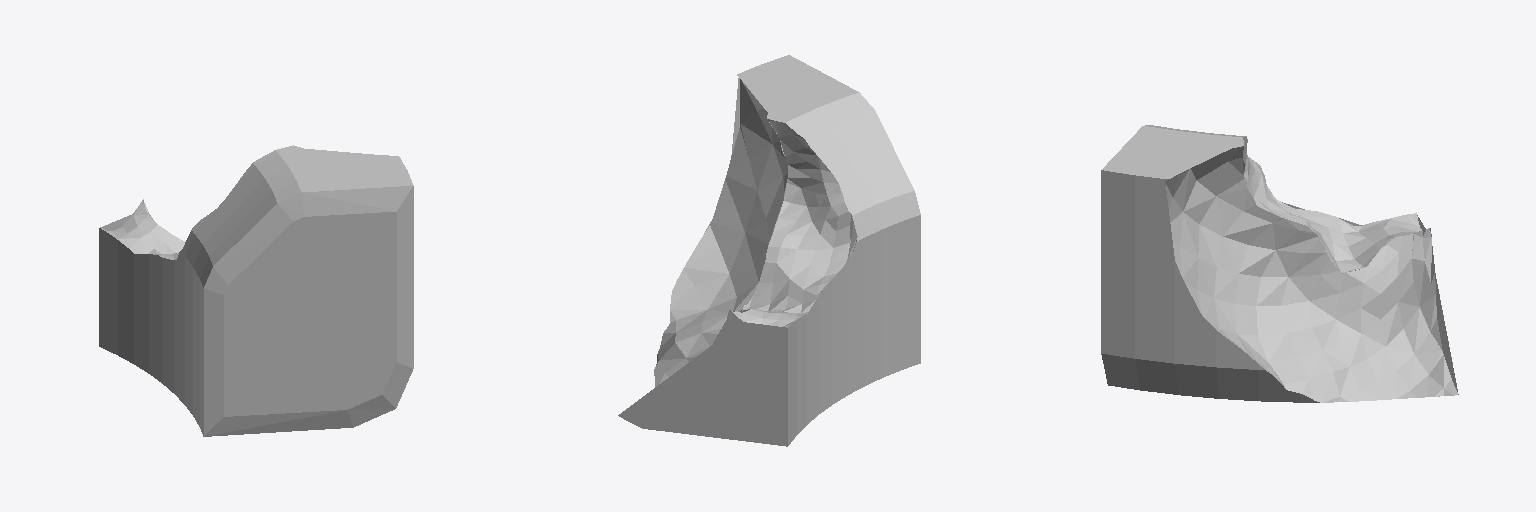
The model's file is CircleBlock12_001.obj.
3 views of the same model, side by side, from view 1: azimuth 30°, elevation 25°; view 2: azimuth 150°, elevation 25°; view 3: azimuth 270°, elevation 25° (orthographic).
Parts seen in each view (by area): view 1: CircleBlock12.001; view 2: CircleBlock12.001; view 3: CircleBlock12.001.
Boxes of the visible parts, <box> form: CircleBlock12.001: <box>99,145,413,436</box>; CircleBlock12.001: <box>618,55,920,446</box>; CircleBlock12.001: <box>1101,125,1458,402</box>.
Bounding box in the file's own units: 6.88 × 7.63 × 10.37.